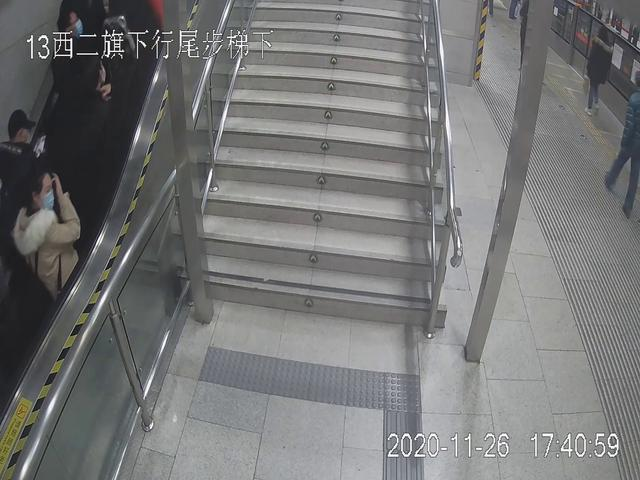person: (9, 165, 87, 309), (585, 27, 616, 114)
